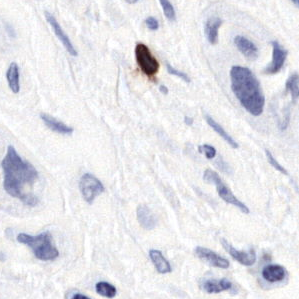Lymphocyte: (135, 41, 161, 77)
